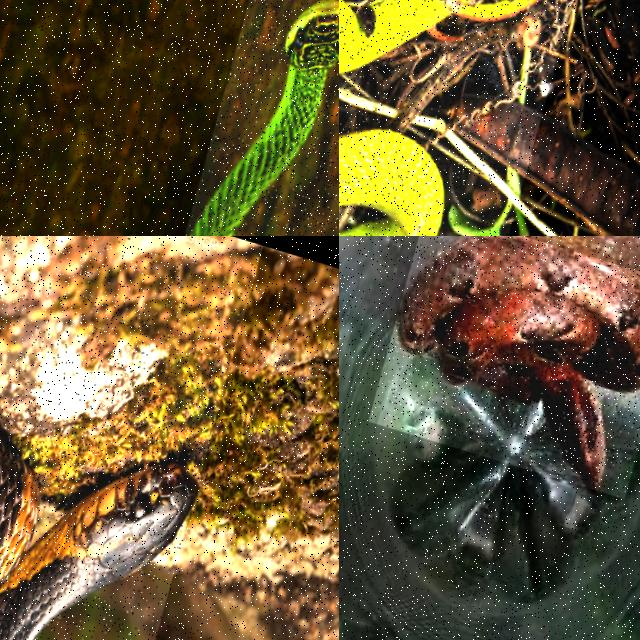Bungarus fasciatus: (0, 439, 197, 639)
Calloselasma rhodostoma: (398, 236, 639, 488)
Chrysopelea ornata: (190, 0, 338, 235)
Trimeresurus: (339, 129, 444, 235)
snake: (398, 236, 639, 488), (0, 439, 197, 639), (190, 0, 338, 235), (339, 129, 444, 235)
